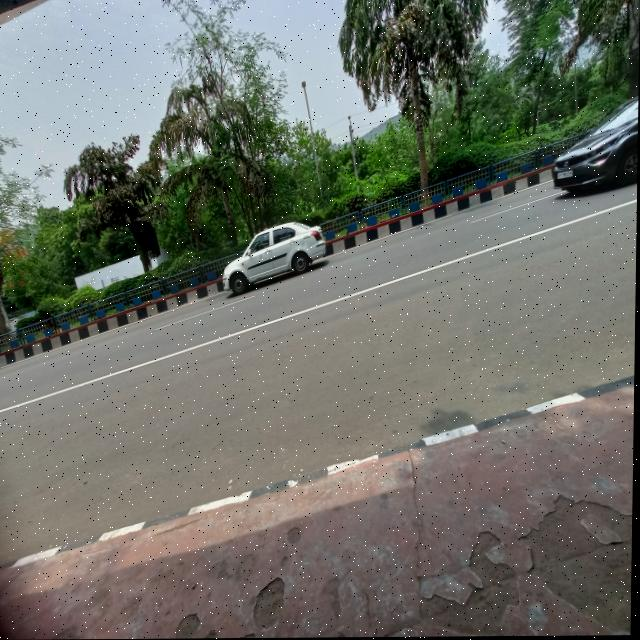car: (544, 102, 635, 219), (221, 211, 340, 299)
